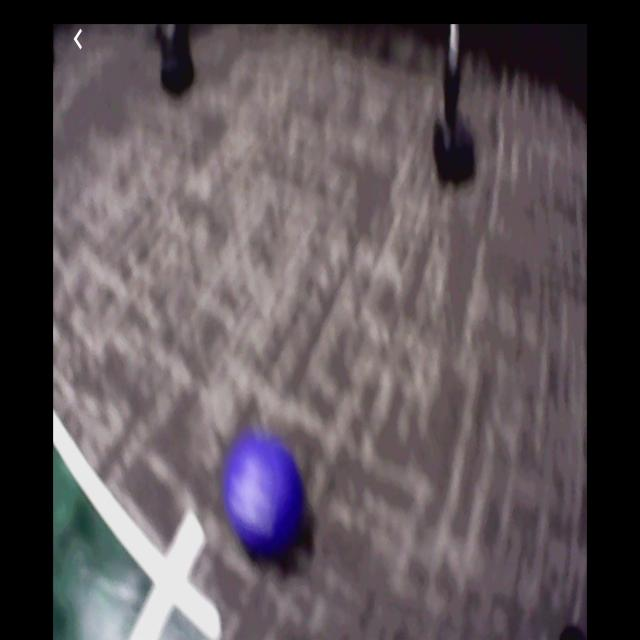ball: (229, 438, 304, 555)
